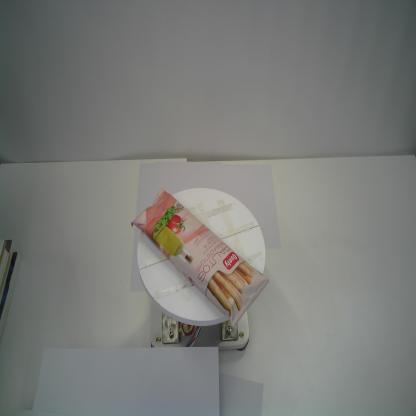Dessert: (130, 186, 270, 330)
